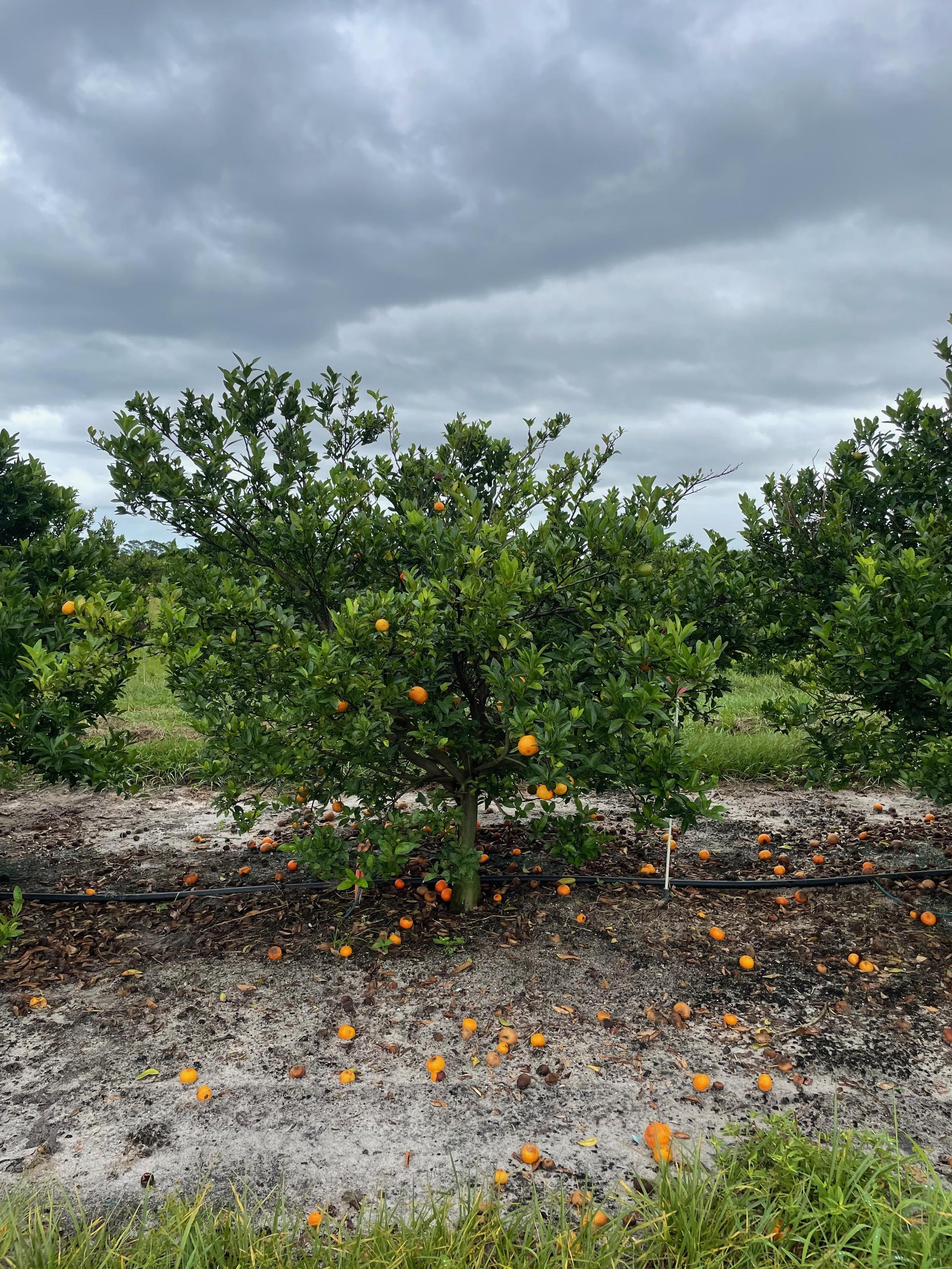fruit_on_ground: (516, 733, 540, 757), (407, 684, 430, 705), (634, 559, 655, 579), (60, 598, 79, 617), (330, 697, 350, 715), (536, 783, 555, 801), (637, 656, 655, 673), (551, 779, 569, 796), (373, 617, 391, 634), (296, 785, 310, 799), (331, 800, 345, 814), (294, 793, 309, 806), (432, 500, 446, 513), (526, 783, 539, 796), (850, 450, 864, 462), (398, 571, 409, 582)
fruit_on_tree: (763, 1214, 795, 1243), (643, 1120, 672, 1147), (556, 1232, 580, 1253), (519, 1142, 540, 1164), (653, 1144, 674, 1164), (691, 1072, 712, 1092), (588, 1208, 609, 1227), (498, 1026, 518, 1045), (425, 1053, 445, 1072), (337, 1023, 357, 1041), (306, 1209, 325, 1227), (672, 1001, 691, 1019), (178, 1066, 197, 1084), (28, 994, 49, 1010), (195, 1083, 213, 1101), (738, 953, 756, 971), (287, 1062, 306, 1079), (492, 1167, 509, 1186), (757, 1072, 774, 1091), (338, 1068, 356, 1085), (920, 909, 938, 926), (266, 943, 284, 960), (939, 1022, 952, 1045), (461, 1016, 478, 1033), (516, 1072, 533, 1088), (529, 1031, 546, 1047), (708, 926, 726, 941), (485, 1052, 501, 1068), (338, 942, 354, 958), (858, 958, 875, 973), (413, 884, 431, 898), (596, 1008, 612, 1023), (439, 887, 455, 902), (434, 878, 450, 893), (556, 881, 572, 896), (722, 1011, 738, 1026), (398, 914, 414, 929), (543, 1071, 560, 1085), (182, 871, 199, 885), (772, 864, 789, 877), (423, 890, 438, 904), (496, 1040, 511, 1054), (825, 831, 840, 845), (318, 939, 334, 952), (756, 832, 772, 845), (794, 889, 808, 903), (388, 932, 402, 946), (662, 832, 675, 847), (861, 860, 876, 873), (758, 849, 773, 862), (774, 851, 790, 863), (260, 834, 274, 847), (643, 862, 657, 875), (321, 808, 335, 821), (697, 848, 711, 861), (847, 951, 861, 964), (395, 799, 410, 811), (259, 842, 274, 854), (920, 877, 936, 888), (393, 876, 406, 889), (574, 911, 588, 923), (666, 840, 679, 852), (907, 907, 920, 919), (477, 852, 490, 864), (923, 811, 936, 823), (260, 836, 274, 847), (82, 885, 97, 895), (891, 839, 903, 851), (491, 891, 503, 903), (238, 864, 250, 876), (286, 858, 298, 870), (812, 852, 825, 863), (871, 801, 884, 812), (807, 837, 820, 848), (775, 895, 788, 906), (793, 869, 807, 879), (386, 979, 398, 990), (696, 909, 708, 920), (247, 837, 258, 849), (383, 818, 394, 829), (507, 861, 519, 871), (511, 846, 523, 856), (530, 879, 541, 889), (273, 871, 284, 881), (639, 866, 651, 875), (350, 822, 360, 832), (364, 806, 374, 816), (422, 823, 432, 833), (858, 829, 868, 839), (595, 813, 606, 822), (533, 863, 543, 872)
